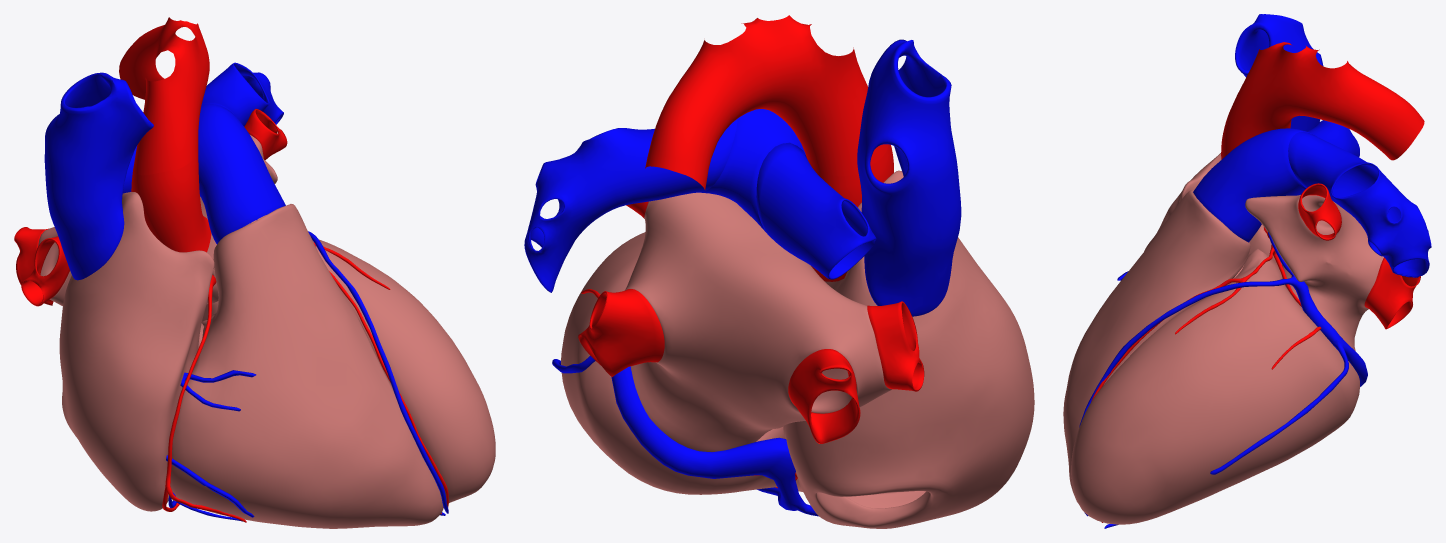
File: heart.glb
The picture shows the model from 3 angles, left to right: view 1: azimuth 30°, elevation 25°; view 2: azimuth 150°, elevation 25°; view 3: azimuth 270°, elevation 25°; orthographic projection. The views are drawn at different scales.
Visible parts, largest first — view 1: VH_M_heart_right_ventricle, VH_M_right_cardiac_atrium, VH_M_heart_left_ventricle, VH_M_superior_vena_cava, VH_M_aortic_arch, VH_M_pulmonary_trunk, VH_M_ascending_aorta, VH_M_pulmonary_artery_L, VH_M_pulmonary_vein_R_sup, VH_M_great_cardiac_vein, VH_M_anterior_cardiac_vein, VH_M_pulmonary_vein_L_sup (+4 smaller); view 2: VH_M_left_cardiac_atrium, VH_M_right_cardiac_atrium, VH_M_aortic_arch, VH_M_superior_vena_cava, VH_M_pulmonary_artery_L, VH_M_heart_left_ventricle, VH_M_pulmonary_artery_R, VH_M_coronary_sinus, VH_M_pulmonary_vein_L_inf, VH_M_pulmonary_trunk, VH_M_pulmonary_vein_R_inf, VH_M_pulmonary_vein_R_sup (+1 smaller); view 3: VH_M_heart_left_ventricle, VH_M_heart_right_ventricle, VH_M_aortic_arch, VH_M_left_cardiac_atrium, VH_M_pulmonary_artery_L, VH_M_pulmonary_trunk, VH_M_superior_vena_cava, VH_M_pulmonary_vein_L_inf, VH_M_coronary_sinus, VH_M_great_cardiac_vein, VH_M_pulmonary_vein_L_sup, VH_M_posterior_vein_of_left_ventricle (+5 smaller).
Boxes of the visible parts, x1,y1,x2,y2 form: VH_M_heart_right_ventricle: (166,204,443,528); VH_M_right_cardiac_atrium: (59,192,214,511); VH_M_heart_left_ventricle: (202,239,495,502); VH_M_superior_vena_cava: (44,72,153,280); VH_M_aortic_arch: (119,17,209,175); VH_M_pulmonary_trunk: (198,103,285,244); VH_M_ascending_aorta: (131,156,211,252); VH_M_pulmonary_artery_L: (201,62,283,126); VH_M_pulmonary_vein_R_sup: (21,236,69,306); VH_M_great_cardiac_vein: (308,231,448,513); VH_M_anterior_cardiac_vein: (166,370,256,517); VH_M_pulmonary_vein_L_sup: (244,108,287,160); VH_M_left_cardiac_atrium: (625,192,891,451); VH_M_right_cardiac_atrium: (783,170,1034,528); VH_M_aortic_arch: (645,15,888,190); VH_M_superior_vena_cava: (857,39,961,316); VH_M_pulmonary_artery_L: (524,119,737,292); VH_M_heart_left_ventricle: (561,232,784,494); VH_M_pulmonary_artery_R: (756,142,876,279); VH_M_coronary_sinus: (611,366,808,512); VH_M_pulmonary_vein_L_inf: (578,289,664,376); VH_M_pulmonary_trunk: (700,109,805,234); VH_M_pulmonary_vein_R_inf: (788,349,860,443); VH_M_pulmonary_vein_R_sup: (867,301,924,391); VH_M_heart_left_ventricle: (1071,249,1359,524); VH_M_heart_right_ventricle: (1063,190,1250,503); VH_M_aortic_arch: (1227,42,1424,160); VH_M_left_cardiac_atrium: (1245,195,1383,350); VH_M_pulmonary_artery_L: (1288,131,1431,277); VH_M_pulmonary_trunk: (1193,128,1317,242); VH_M_superior_vena_cava: (1235,14,1323,131); VH_M_pulmonary_vein_L_inf: (1364,257,1420,329); VH_M_coronary_sinus: (1288,270,1367,386); VH_M_great_cardiac_vein: (1079,279,1289,516); VH_M_pulmonary_vein_L_sup: (1298,183,1341,240); VH_M_posterior_vein_of_left_ventricle: (1210,340,1348,474).
Bounding box in the file's own units: 0.1243 × 0.1462 × 0.1179.
